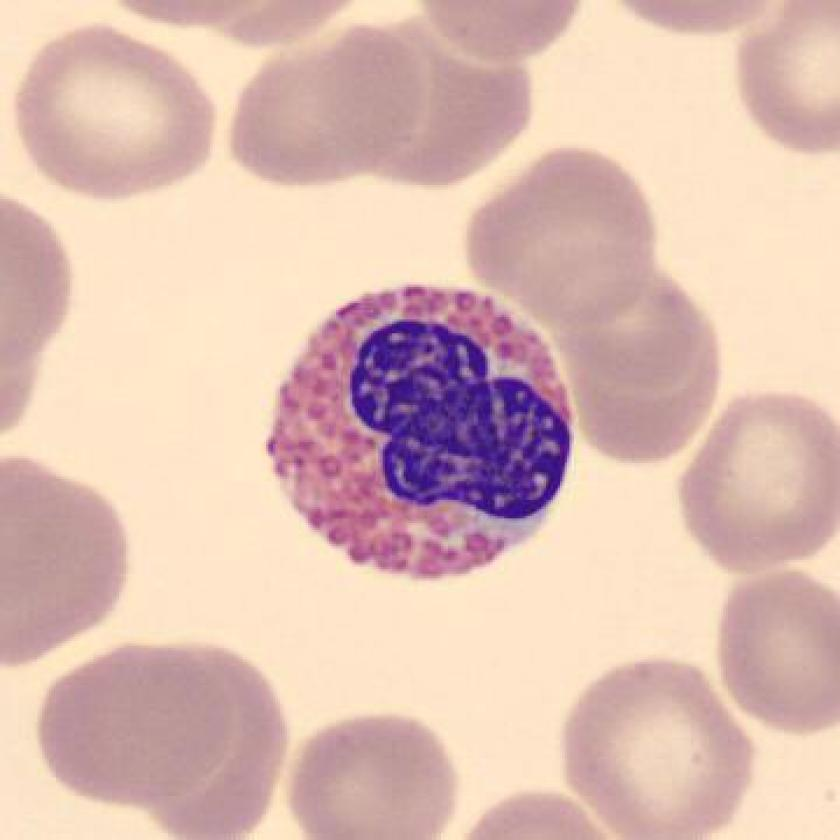eosinophil: (249, 274, 592, 593)
